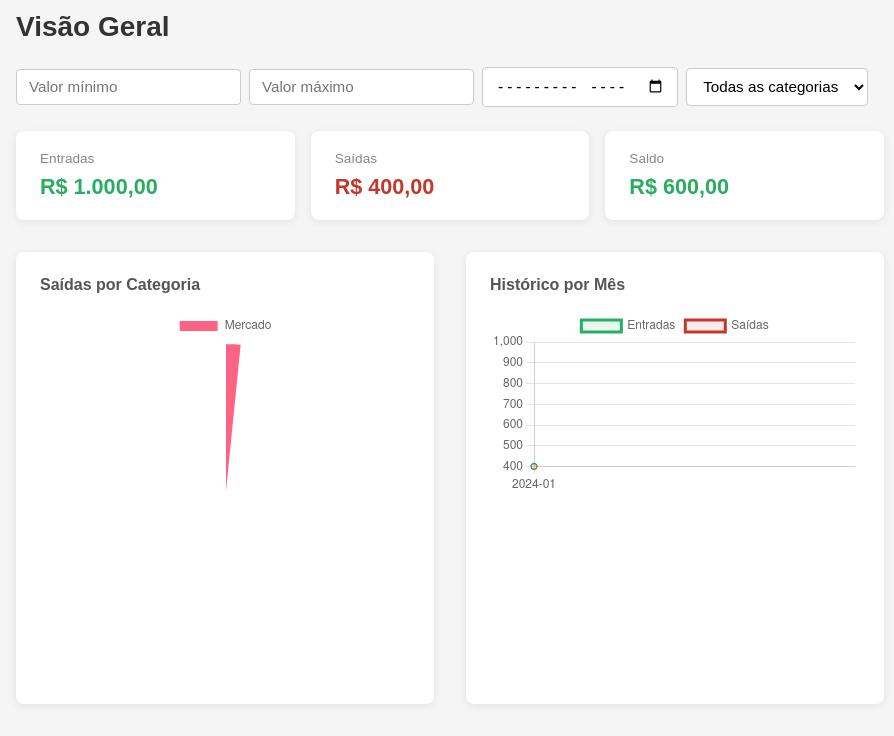
Test: VisaoGeral (integração) › aplica filtro por categoria usando categoryId da transação
Check: the text "R$ 1.000,00" is shown, box 40,174 -> 158,199
Select "Mercado" in the dropdown showing "Todas as categorias" at [777, 87], box 686,68 -> 868,106
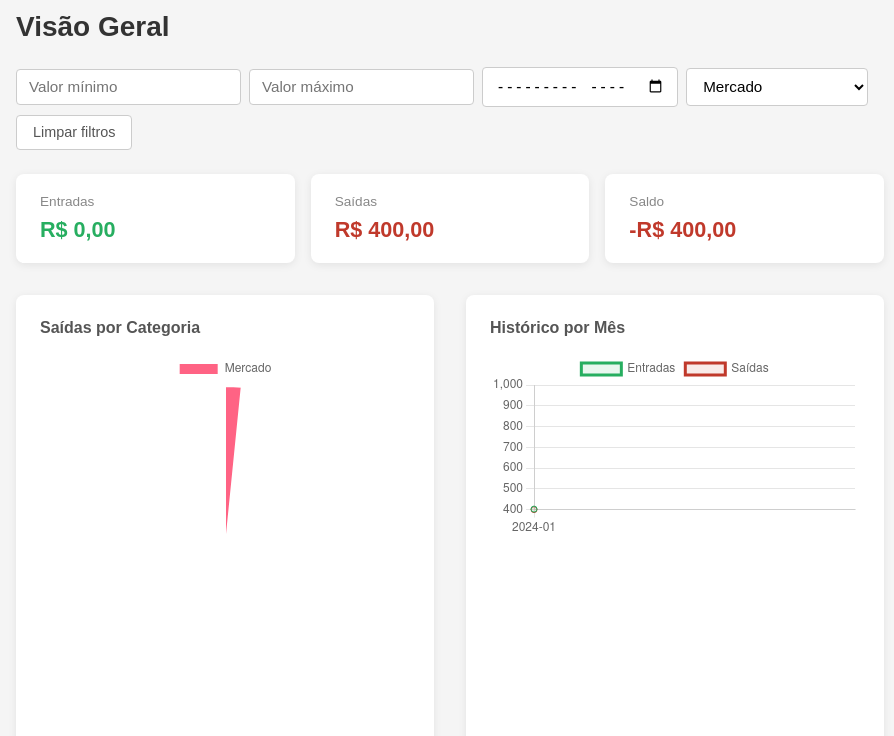
Check: the text "R$ 400,00" is shown, box 335,217 -> 434,242
Check: the text "1.000,00" is gone
